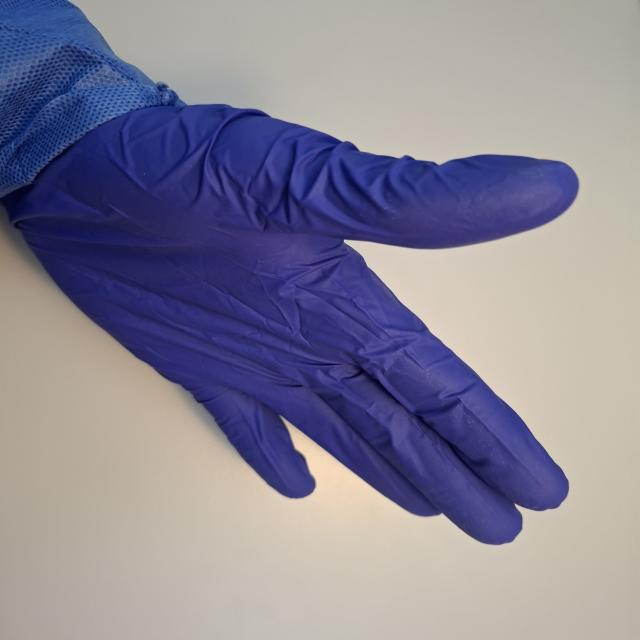glove_on: (11, 82, 583, 548)
